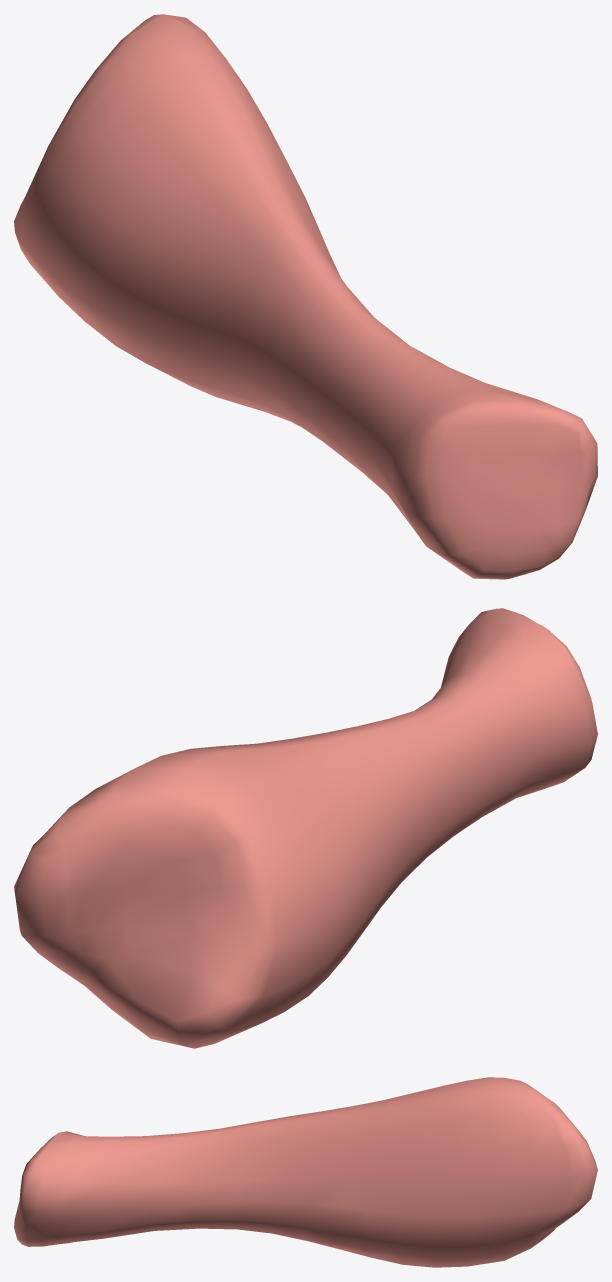
File: mixamo_humanoid_surface_leftUeg.fbx
The picture shows the model from 3 angles, top to bottom: view 1: azimuth 30°, elevation 25°; view 2: azimuth 150°, elevation 25°; view 3: azimuth 270°, elevation 25°; orthographic projection. The views are drawn at different scales.
Visible parts, largest first — view 1: surface_LeftLeg; view 2: surface_LeftLeg; view 3: surface_LeftLeg.
Boxes of the visible parts, x1=… form: surface_LeftLeg: x1=14, y1=14, x2=597, y2=579; surface_LeftLeg: x1=14, y1=608, x2=597, y2=1048; surface_LeftLeg: x1=14, y1=1077, x2=597, y2=1267.
Bounding box in the file's own units: 13.63 × 16.21 × 46.53.
